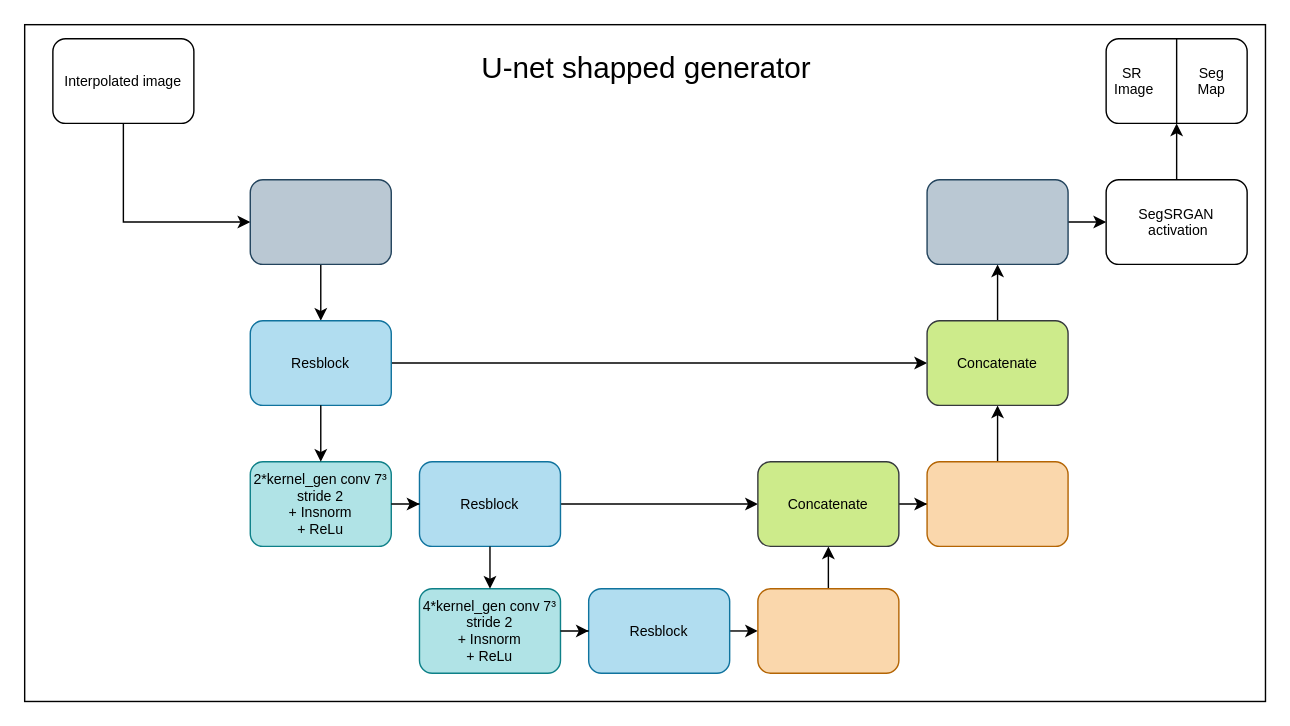
Some shapes in this 1290 by 726 pixel diagram are drawn without their labels. Each missing label, with the centre of its shape:
"2 Conv 7³ stride 1 + Insnorm + ReLu" goes at point 997,221.
"kernel_gen Conv 7³ stride 1 + Insnorm + ReLu" goes at point 320,221.
"UpSampling 3D X2 2*kernel_gen conv 7³ stride 1 + Insnorm + ReLu" goes at point 827,630.
"UpSampling 3D X2 kernel_gen Conv 7³ stride 1 + Insnorm + ReLu" goes at point 997,503.
